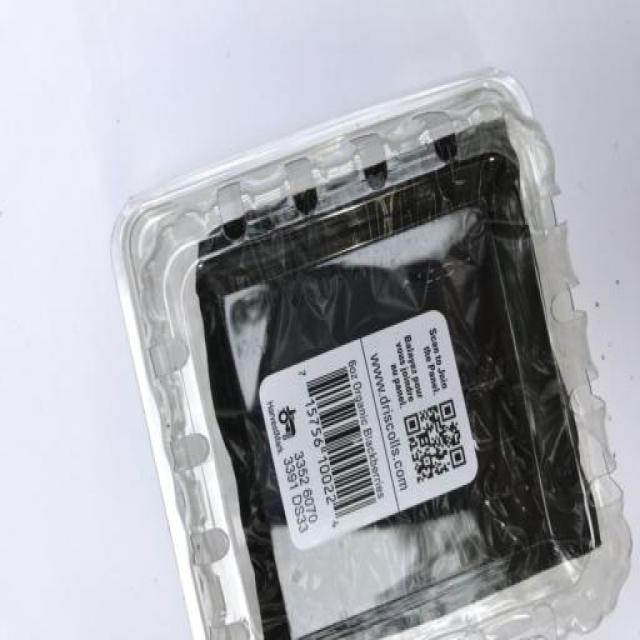plastic: (94, 66, 640, 640)
